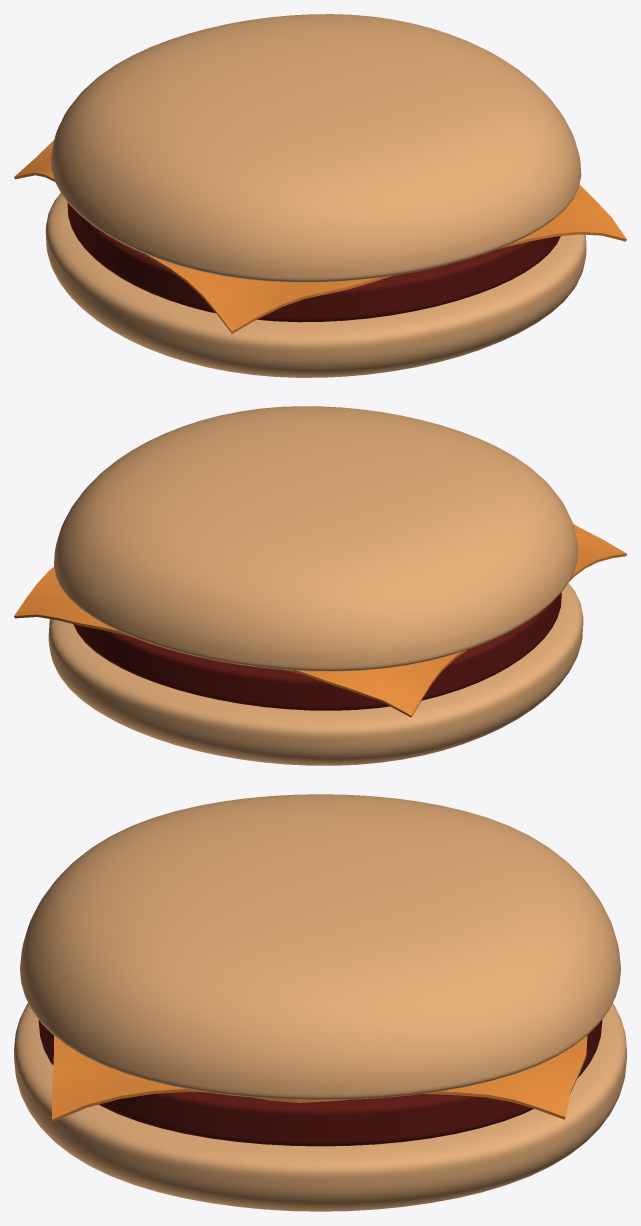
File: hamburger.glb
3 views of the same model, one above another, from view 1: azimuth 30°, elevation 25°; view 2: azimuth 150°, elevation 25°; view 3: azimuth 270°, elevation 25° (orthographic). The views are drawn at different scales.
Parts seen in each view (by area): view 1: Cube, Cube.002, Cube.001, Plane; view 2: Cube, Cube.002, Cube.001, Plane; view 3: Cube, Cube.002, Cube.001, Plane.
Boxes of the visible parts, box(x1,y1,x2,y2) form: Cube: box(51, 14, 581, 282); Cube.002: box(45, 193, 586, 377); Cube.001: box(67, 202, 560, 322); Plane: box(14, 140, 626, 333); Cube: box(54, 406, 577, 671); Cube.002: box(48, 583, 583, 765); Cube.001: box(73, 592, 561, 710); Plane: box(14, 523, 626, 717); Cube: box(20, 794, 620, 1100); Cube.002: box(14, 1003, 626, 1211); Cube.001: box(38, 1020, 602, 1146); Plane: box(52, 1035, 587, 1121).
Bounding box in the file's own units: 9.17 × 4.19 × 9.17.
